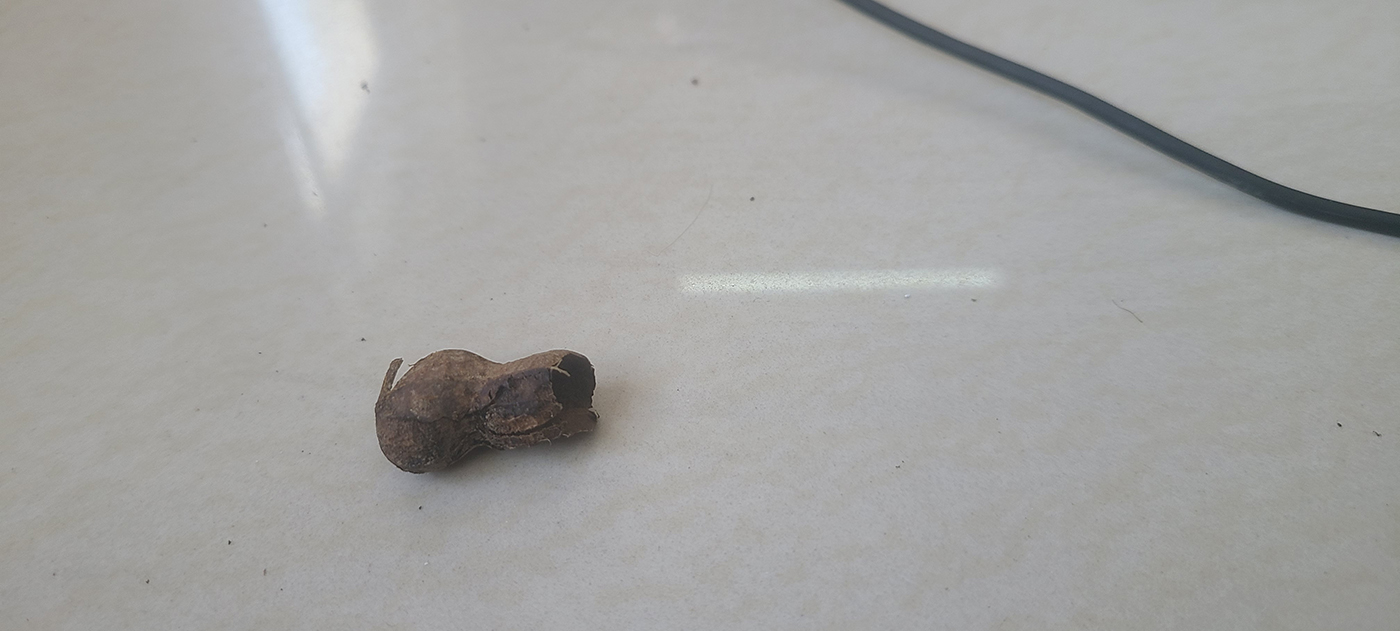l: (374, 345, 604, 474)
